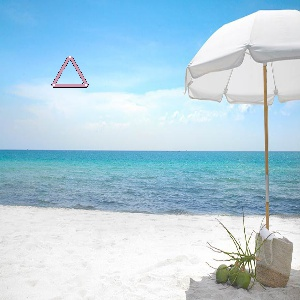triangle: (49, 53, 92, 91)
